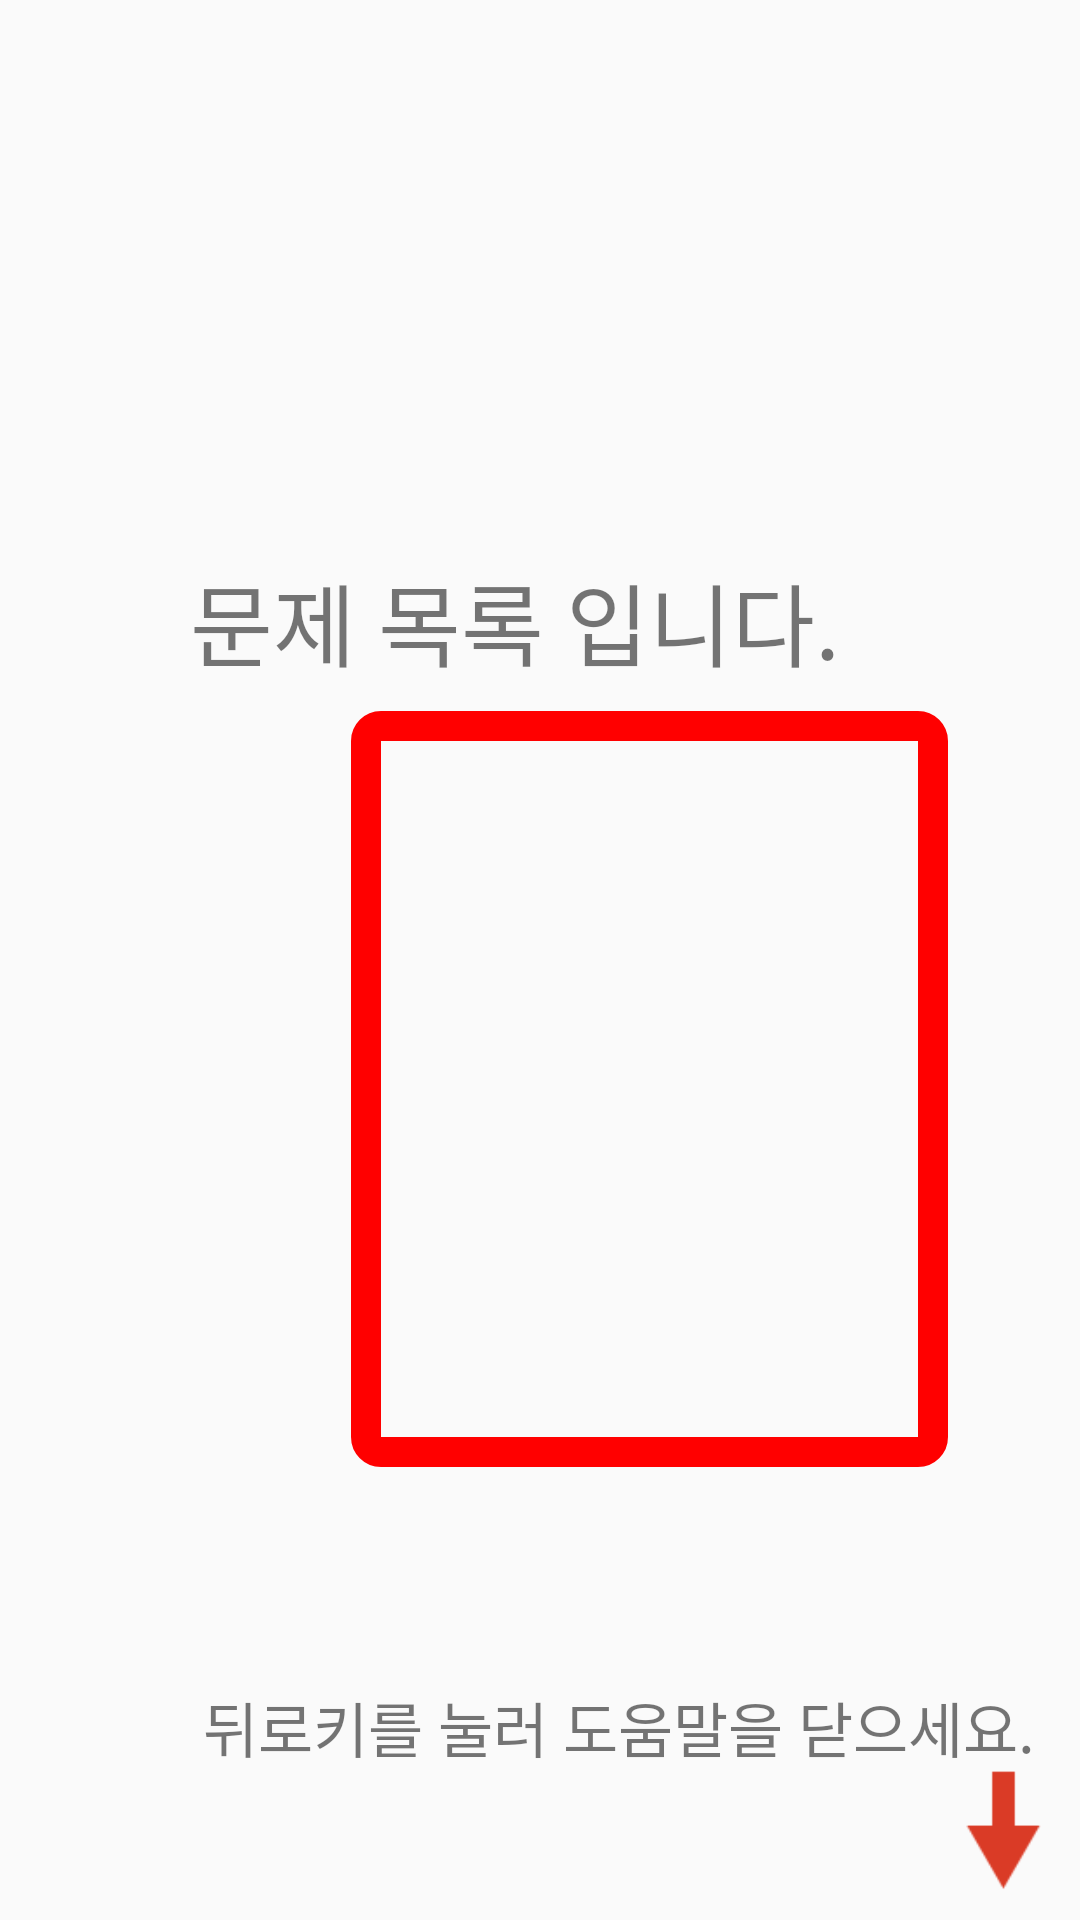

Icon click points for this 1080 × 1920 phone screenshot, format [x,y]:
arrow: [1003,1830]
